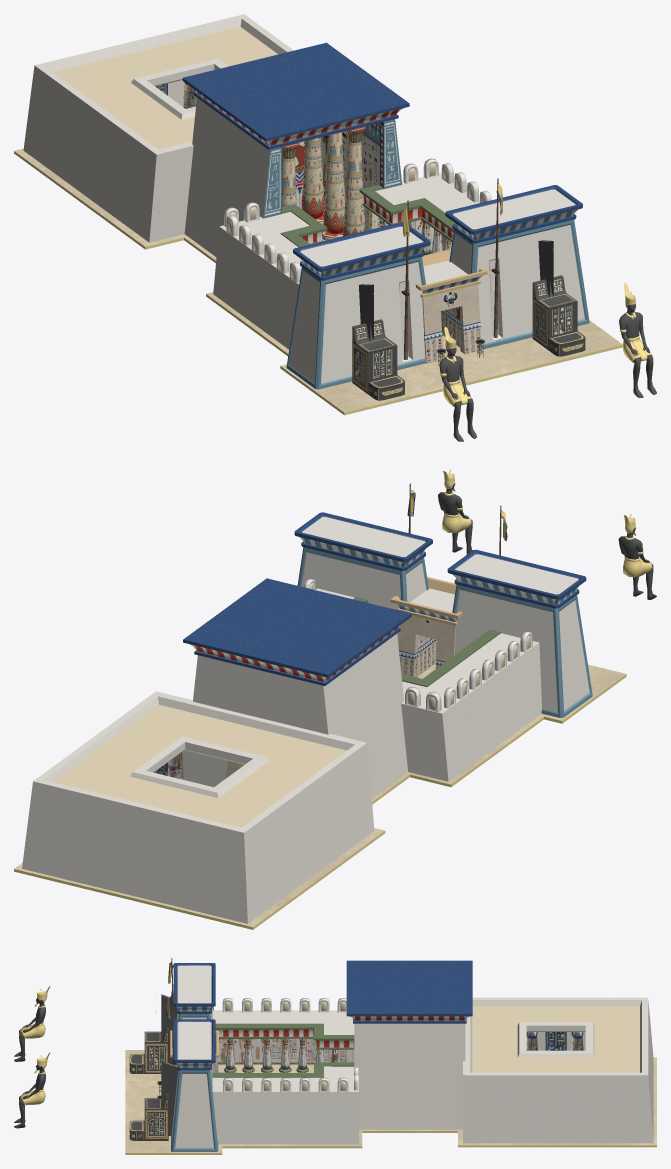
File: map_01.glb
The picture shows the model from 3 angles, top to bottom: view 1: azimuth 30°, elevation 25°; view 2: azimuth 150°, elevation 25°; view 3: azimuth 270°, elevation 25°; orthographic projection. The views are drawn at different scales.
Parts seen in each view (by area): view 1: sala_santuario_ext, pilono_izq, sala_hipostila_sup, sala_hipostila_inf, sala_hipetra_izq, suelo_templo, puerta_principal, pilono_estatua_023, pilono_estatua_11, sala_hipetra_detalle_00_izq, sala_hipostila_columna_014, sala_hipostila_columna_02 (+6 smaller); view 2: sala_santuario_ext, pilono_izq, sala_hipostila_sup, sala_hipostila_inf, sala_hipetra_izq, suelo_templo, puerta_principal, sala_santuario_int, sala_hipetra_detalle_00_izq, pilono_estatua_00, pilono_estatua_044; view 3: sala_santuario_ext, sala_hipetra_izq, sala_hipostila_inf, sala_hipostila_sup, pilono_izq, suelo_templo, sala_hipetra_detalle_00_izq, pilono_estatua_023, pilono_estatua_11, pilono_estatua_034, sala_santuario_int, pilono_estatua_12 (+2 smaller).
Part boxes in pixels (<box>): sala_santuario_ext: <box>23,14,293,242</box>; pilono_izq: <box>286,185,589,389</box>; sala_hipostila_sup: <box>182,42,409,149</box>; sala_hipostila_inf: <box>184,98,402,257</box>; sala_hipetra_izq: <box>213,172,479,349</box>; suelo_templo: <box>14,148,622,415</box>; puerta_principal: <box>415,249,487,363</box>; pilono_estatua_023: <box>532,275,585,356</box>; pilono_estatua_11: <box>352,319,404,400</box>; sala_hipetra_detalle_00_izq: <box>280,184,453,247</box>; sala_hipostila_columna_014: <box>323,132,345,233</box>; sala_hipostila_columna_02: <box>343,141,364,236</box>; sala_santuario_ext: <box>22,691,374,923</box>; pilono_izq: <box>294,512,592,717</box>; sala_hipostila_sup: <box>183,578,411,685</box>; sala_hipostila_inf: <box>193,633,407,798</box>; sala_hipetra_izq: <box>316,588,541,781</box>; suelo_templo: <box>14,663,626,929</box>; puerta_principal: <box>390,577,462,677</box>; sala_santuario_int: <box>157,750,227,787</box>; sala_hipetra_detalle_00_izq: <box>353,597,500,686</box>; pilono_estatua_00: <box>618,527,656,599</box>; pilono_estatua_044: <box>438,483,472,554</box>; sala_santuario_ext: <box>463,997,653,1143</box>; sala_hipetra_izq: <box>212,1010,358,1144</box>; sala_hipostila_inf: <box>354,1023,465,1129</box>; sala_hipostila_sup: <box>346,960,472,1023</box>; pilono_izq: <box>171,963,218,1151</box>; suelo_templo: <box>125,1050,656,1154</box>; sala_hipetra_detalle_00_izq: <box>212,1023,354,1077</box>; pilono_estatua_023: <box>129,1093,168,1140</box>; pilono_estatua_11: <box>129,1027,168,1073</box>; pilono_estatua_034: <box>161,1061,178,1135</box>; sala_santuario_int: <box>537,1032,585,1050</box>; pilono_estatua_12: <box>161,994,177,1063</box>.
Size of the model in its own units: 38.01 by 22.12 by 100.
Materials: 9 (8 with a texture image).
